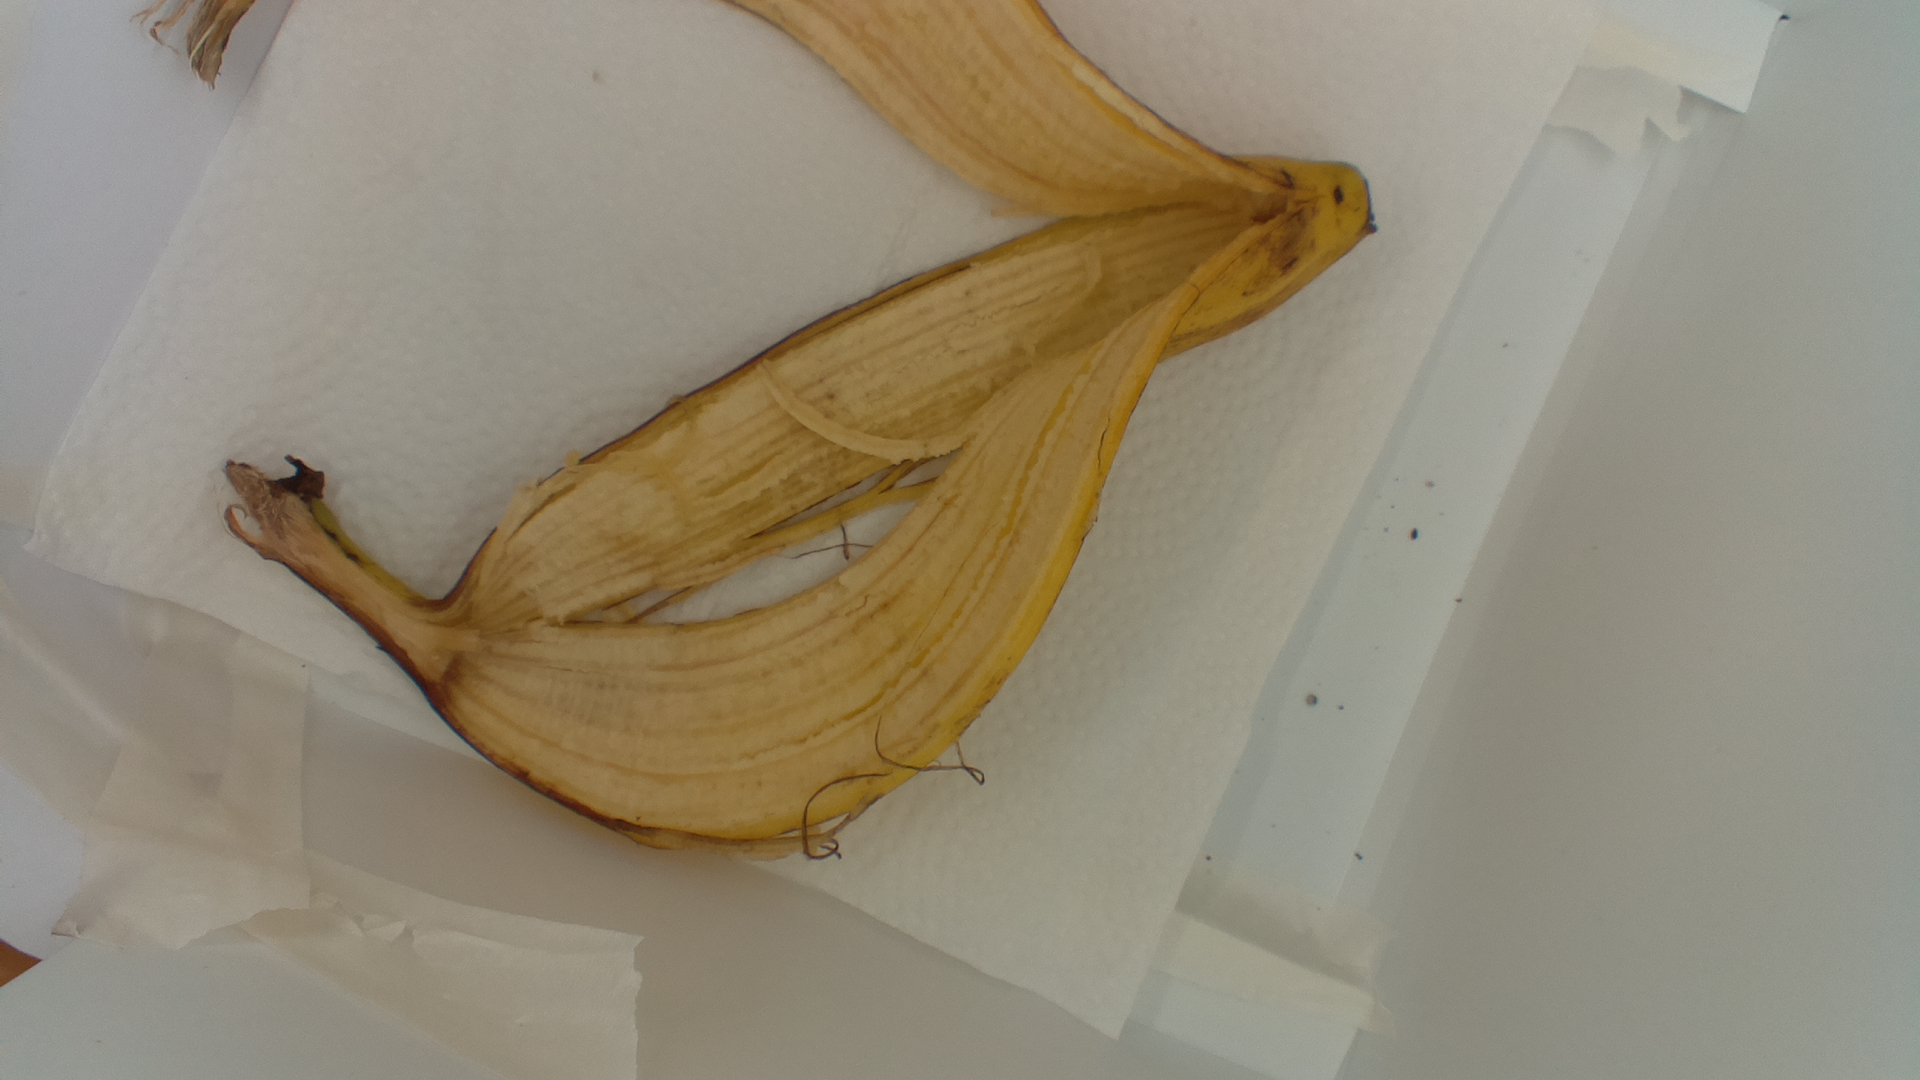fruit: (128, 1, 1385, 872)
